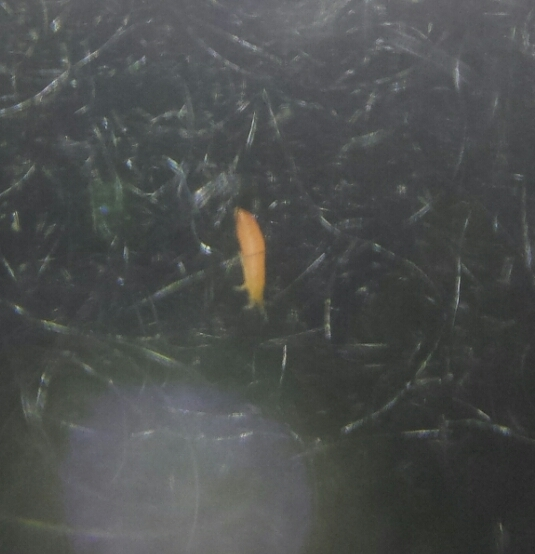tiny_pests: (214, 182, 292, 339)
